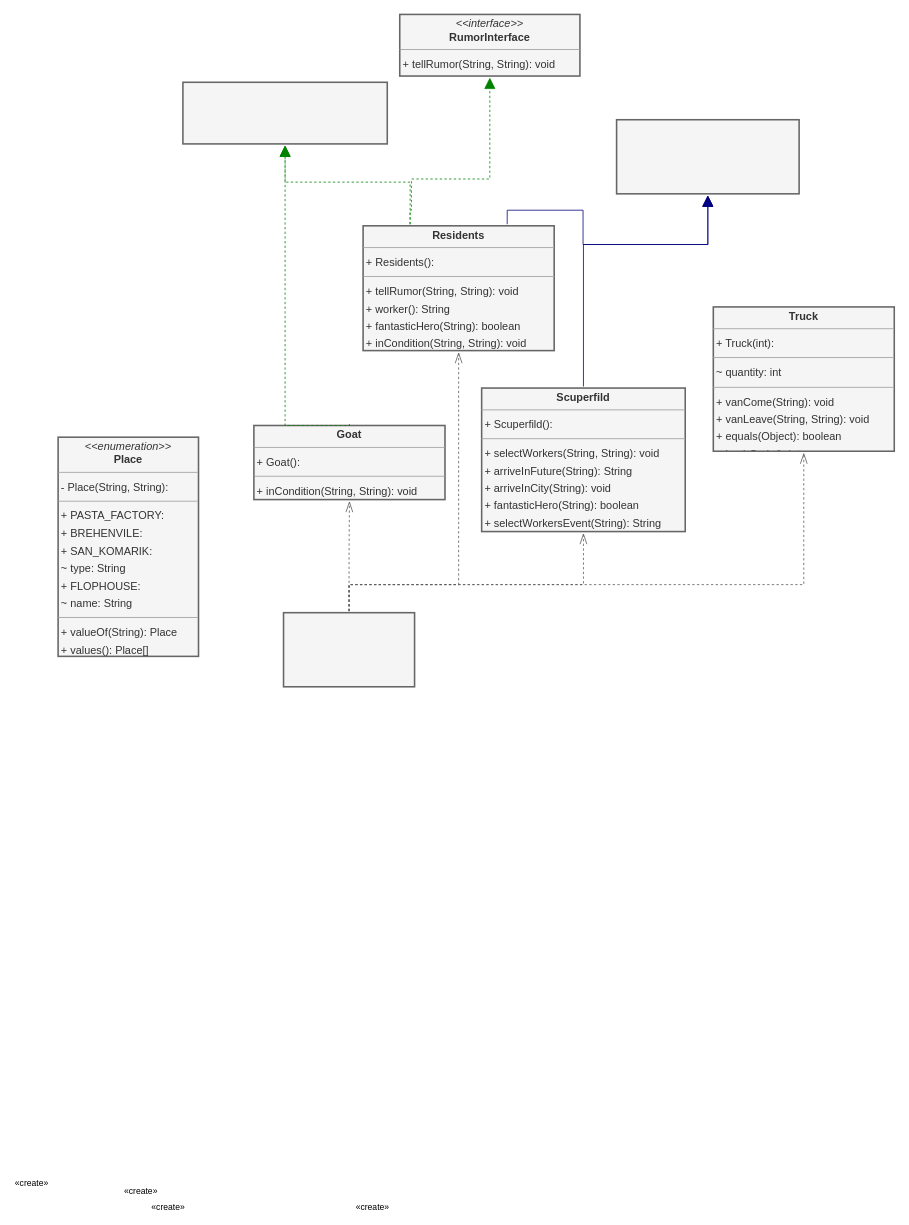
This 909x1225 diagram has some shape labels left out. The centre of each missing label's shape, as x and y in pixels:
"<<interface>> PersonalConditionInterface + inCondition(String, String): void" goes at (x=285, y=112).
"Hero + Hero(): + fantasticHero(String): boolean" goes at (x=707, y=156).
"Main + Main(): + main(String[]): void" goes at (x=348, y=649).
